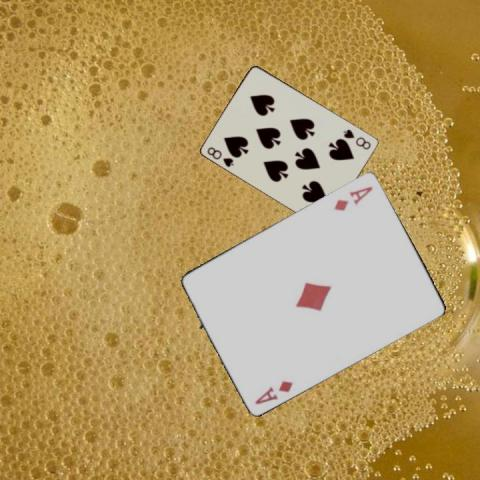8s: (340, 126, 373, 151), (204, 143, 235, 169)
Ad: (331, 183, 375, 212), (252, 377, 295, 405)
